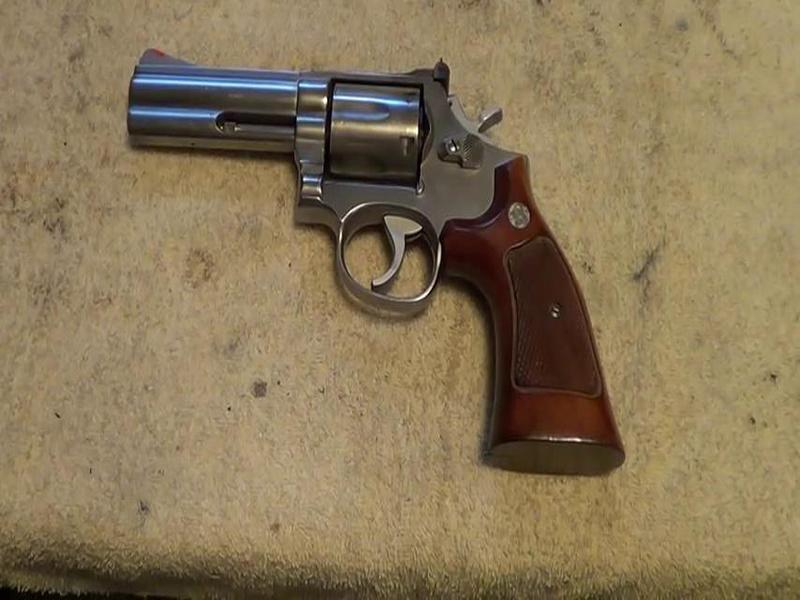Revolver: (111, 24, 643, 484)
